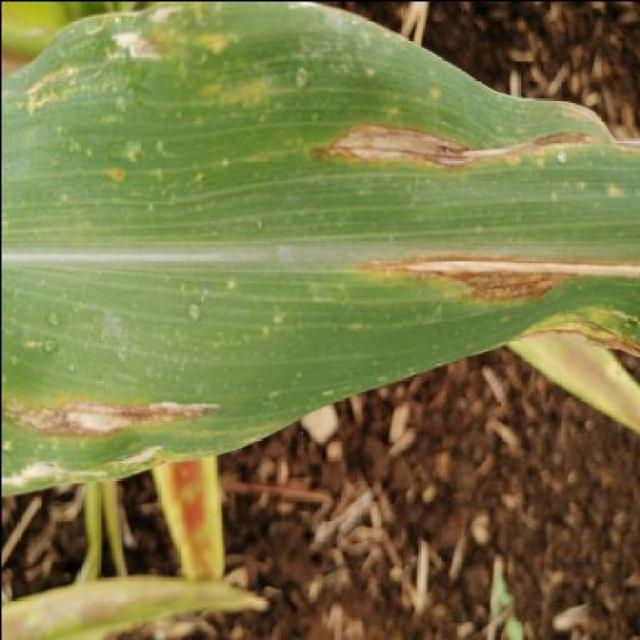Corn_Leaf_Blight: (9, 12, 640, 470)
